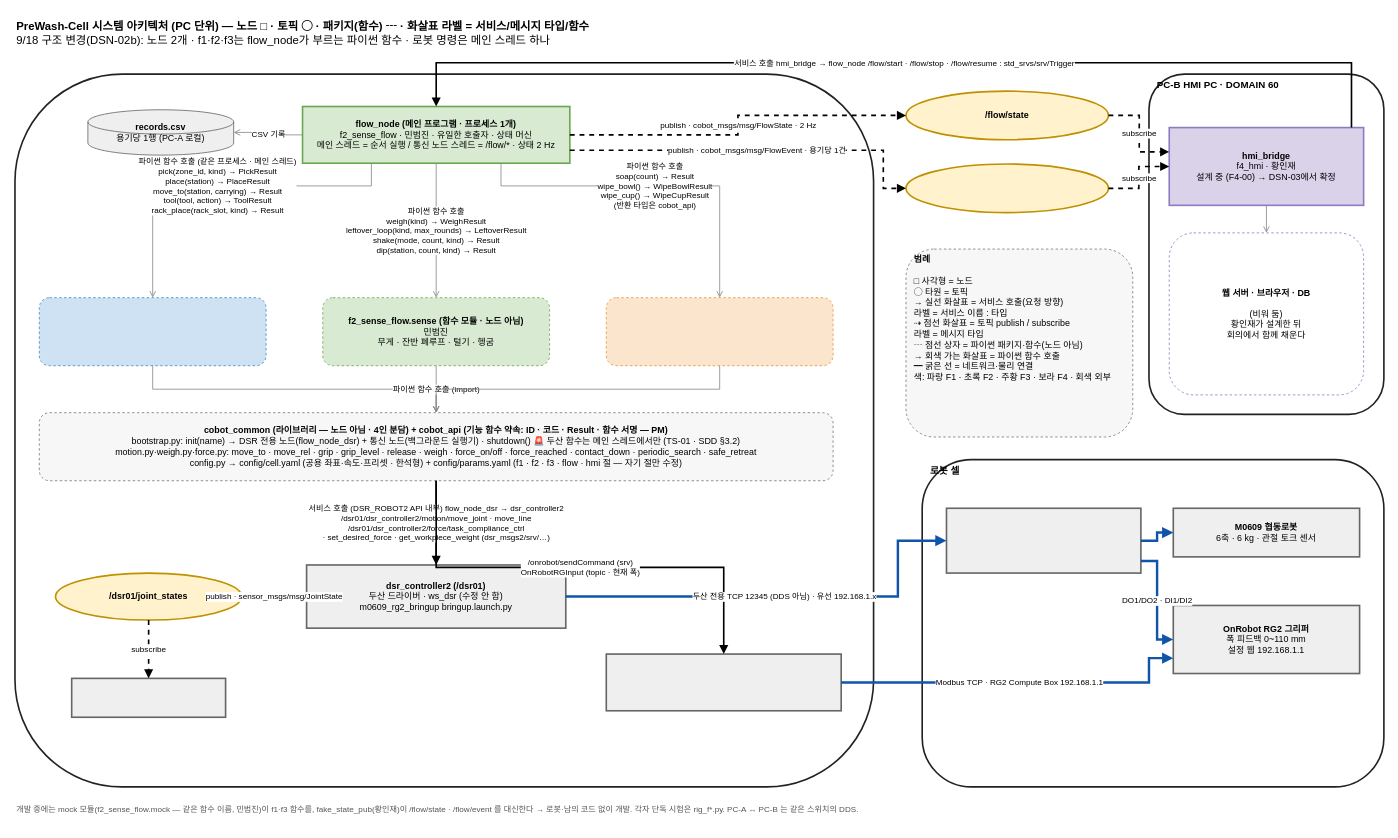
This 1398x838 diagram has some shape labels left out. Here are the shapes that lost their labels. From the top down, the box of each, then its label:
(905, 163, 1109, 213): /flow/event
(38, 297, 266, 366): f1_handling.handling (함수 모듈 · 노드 아님) 한석형 탐색 파지 · 안착 놓기 · 이송 · 툴 · 팔레트 적재
(605, 297, 833, 366): f3_wipe.wipe (함수 모듈 · 노드 아님) 박진용 세제 담금 · 그릇 닦기 · 컵 닦기
(14, 73, 874, 787): PC-A 로봇 제어 PC · Ubuntu 24.04 · ROS 2 Jazzy · ROS_DOMAIN_ID=60 · 유선 192.168.1.x
(945, 507, 1141, 573): M0609 컨트롤러 192.168.1.100 · TCP 12345 Dart Platform 2.12.1
(70, 677, 226, 718): rviz2 · 모니터링 (선택)
(605, 653, 842, 711): OnRobotRGControllerServer 그리퍼 드라이버 · ws_dsr (강사 배포) 명령 srv · 현재 폭 topic
